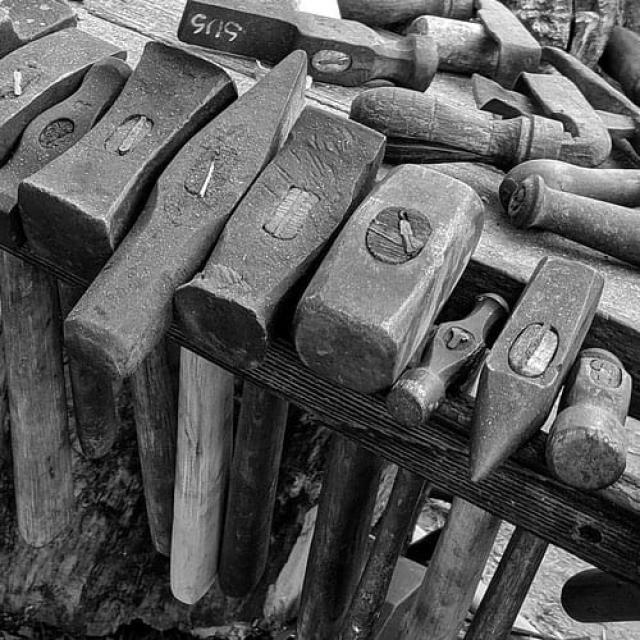hammer: (59, 34, 315, 640), (171, 100, 402, 640), (16, 11, 242, 466), (284, 166, 494, 640), (402, 249, 612, 640), (1, 44, 142, 554), (341, 278, 510, 640), (462, 345, 634, 640), (0, 2, 127, 164)
